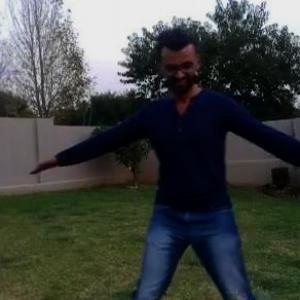land: (80, 49, 299, 299)
